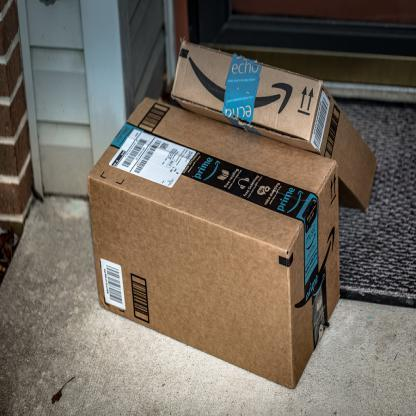package: (87, 92, 347, 399), (164, 28, 382, 221)
